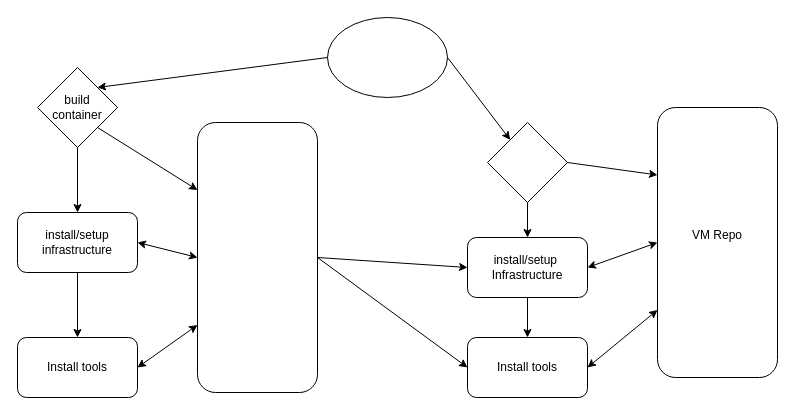
The diagram is 795 pixels wide and 415 high, and some of its shapes have lost their labels. The shapes that lost their labels are listed below. From the top down, each one's centre as x and y in pixels, then its label:
the point at 387,57: start
the point at 527,162: build VM
the point at 257,257: Container Repo
